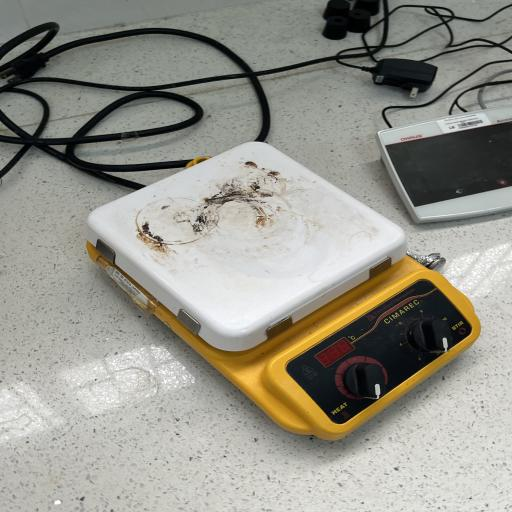Plancha_Agitacion_Cimarec: (63, 134, 491, 449)
